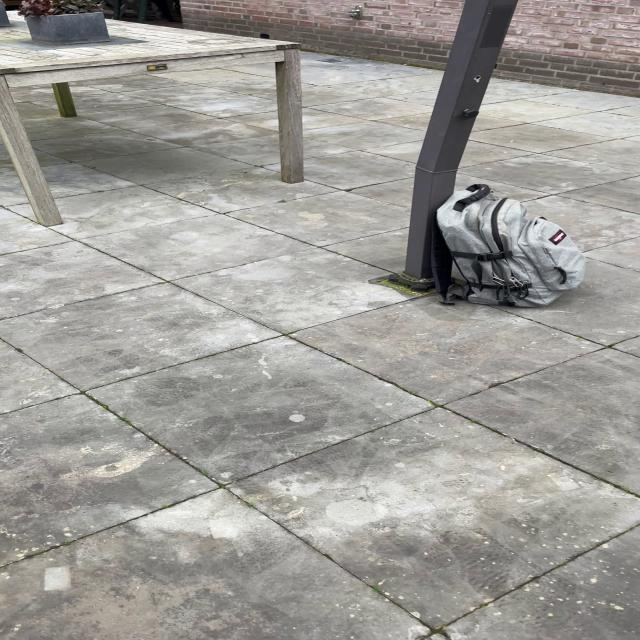backpack: (421, 183, 592, 312)
